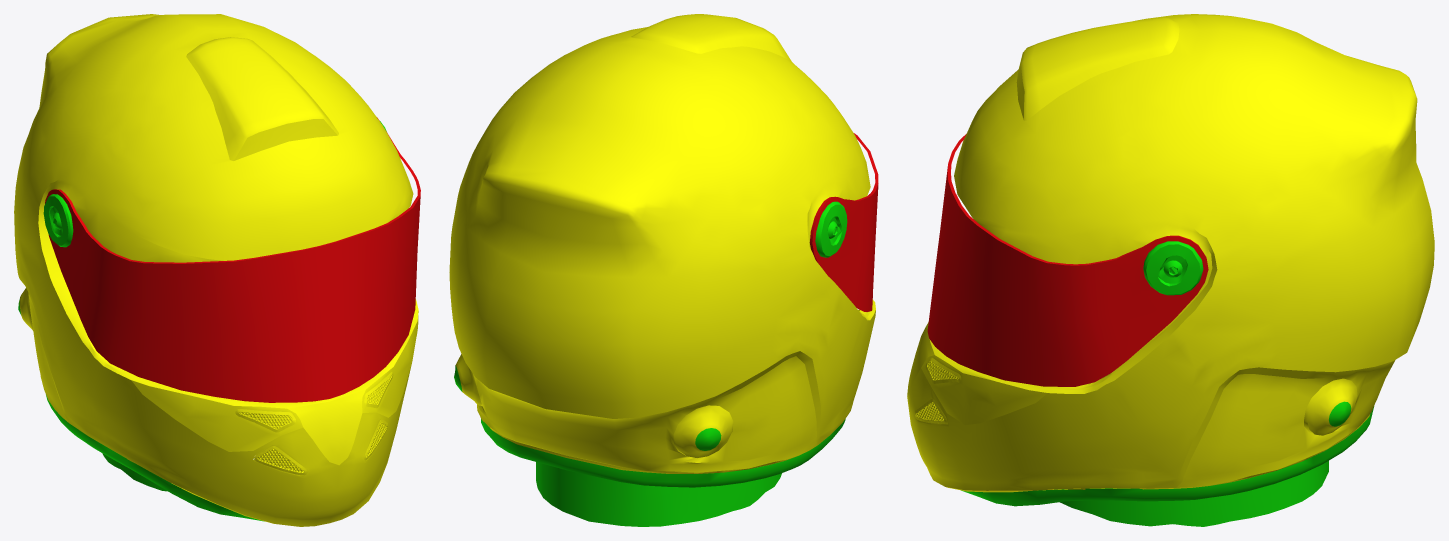
Rendered from F1PS_Helmet_V07.glb.
3 views of the same model, side by side, from view 1: azimuth 30°, elevation 25°; view 2: azimuth 150°, elevation 25°; view 3: azimuth 270°, elevation 25° (orthographic). The views are drawn at different scales.
Parts seen in each view (by area): view 1: Helmet_main, Helmet_main_visor; view 2: Helmet_main, Helmet_main_visor; view 3: Helmet_main, Helmet_main_visor.
Part boxes in pixels (x1,y1,x2,y2): Helmet_main: (14, 14, 418, 526); Helmet_main_visor: (45, 117, 420, 402); Helmet_main: (449, 14, 875, 526); Helmet_main_visor: (809, 133, 878, 311); Helmet_main: (907, 14, 1434, 526); Helmet_main_visor: (927, 134, 1208, 386).
Bounding box in the file's own units: 1.91 × 2.23 × 2.38.
Materials: 3 (1 with a texture image).
